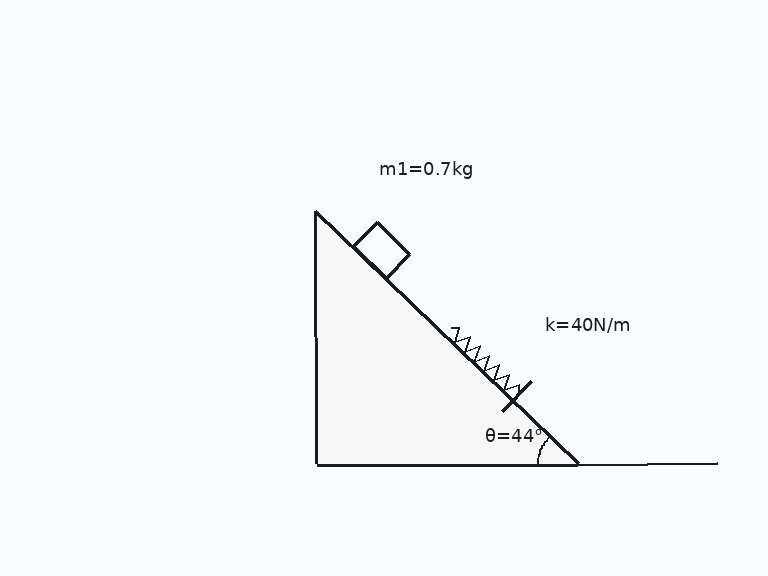block: (350, 220, 411, 280)
ramp: (313, 208, 580, 466)
spring: (448, 326, 521, 396)
